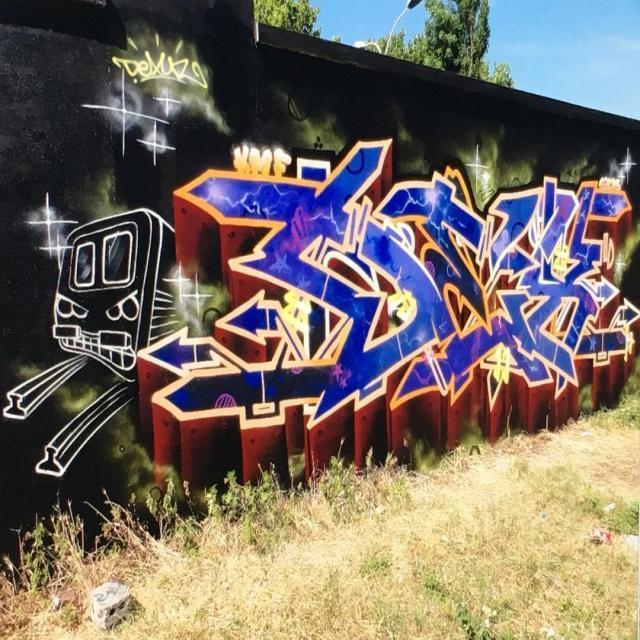nonspitting: (141, 133, 640, 435)
